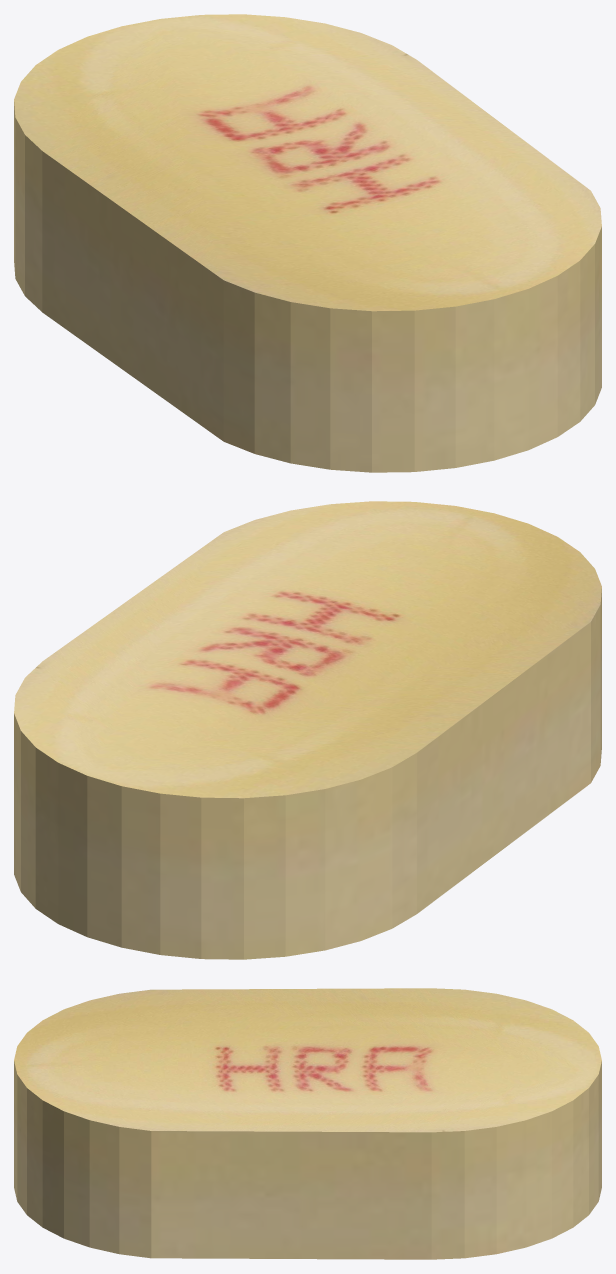
3 renders of one model, top to bottom at view 1: azimuth 30°, elevation 25°; view 2: azimuth 150°, elevation 25°; view 3: azimuth 270°, elevation 25°, orthographic. The views are drawn at different scales.
Visible parts, largest first — view 1: 圓柱體; view 2: 圓柱體; view 3: 圓柱體.
Boxes of the visible parts, x1,y1,x2,y2 form: 圓柱體: [14, 14, 601, 472]; 圓柱體: [14, 501, 601, 959]; 圓柱體: [14, 988, 601, 1259].
Size of the model in its own units: 1.7 by 0.7007 by 2.93.
Materials: 1 (1 with a texture image).
